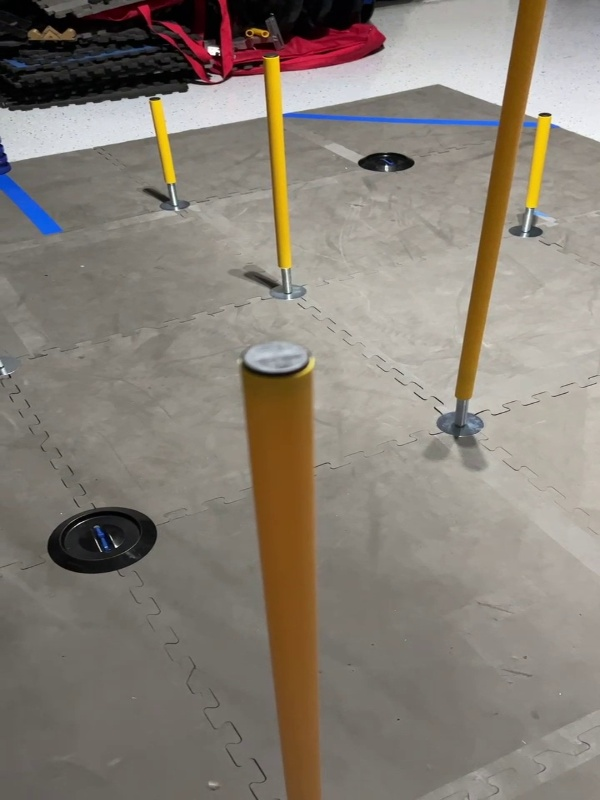top: (233, 334, 316, 381)
